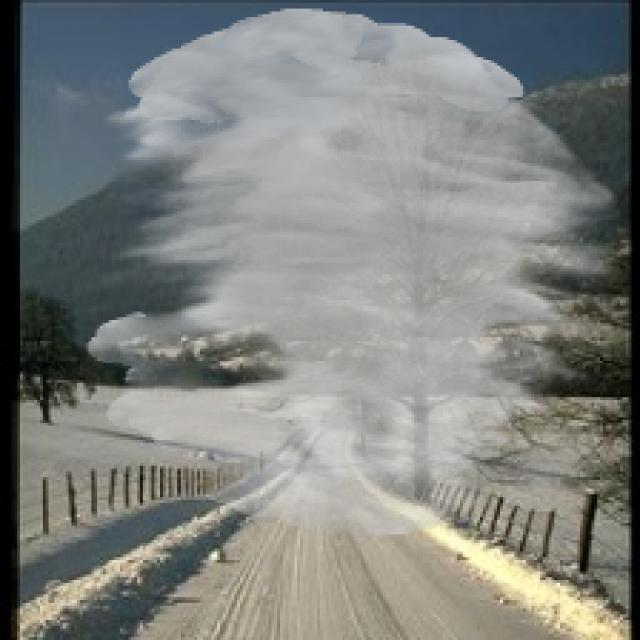smoke: (86, 9, 623, 537)
